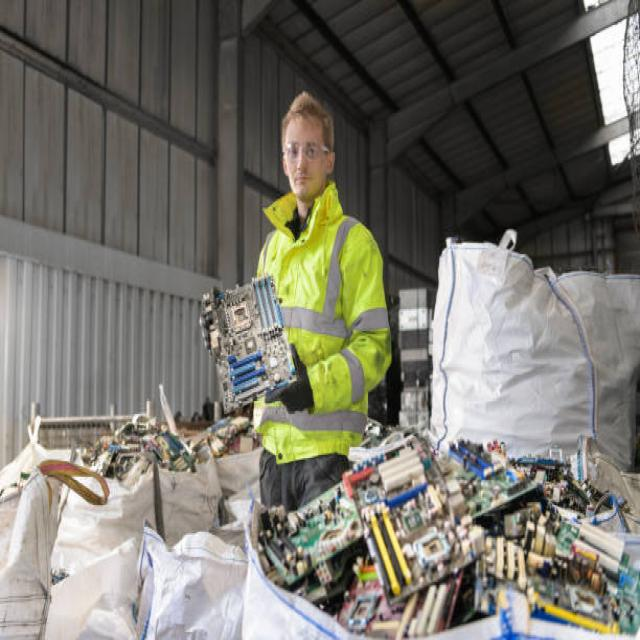metal: (252, 450, 619, 618), (201, 268, 295, 435), (39, 412, 192, 484)
trash: (422, 236, 640, 428)
